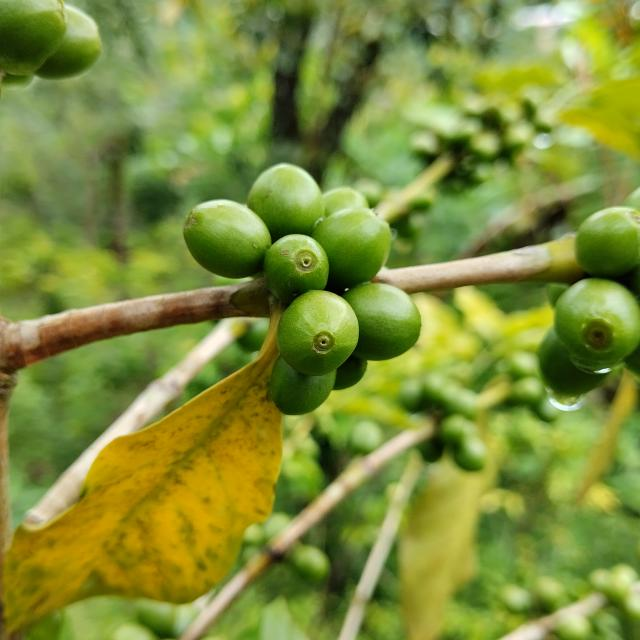green: (555, 278, 640, 374), (276, 290, 359, 376), (183, 199, 271, 278), (312, 208, 391, 290), (342, 283, 422, 361), (248, 163, 325, 242), (0, 0, 66, 75), (34, 3, 100, 78), (263, 234, 329, 304), (576, 206, 640, 278), (269, 357, 336, 416), (323, 186, 369, 217)
